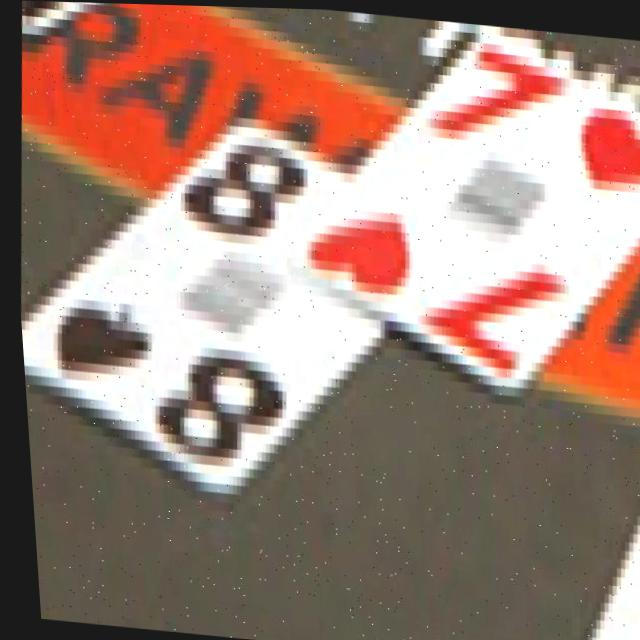Card-7: (293, 31, 640, 397)
Card-8: (18, 111, 380, 500)
